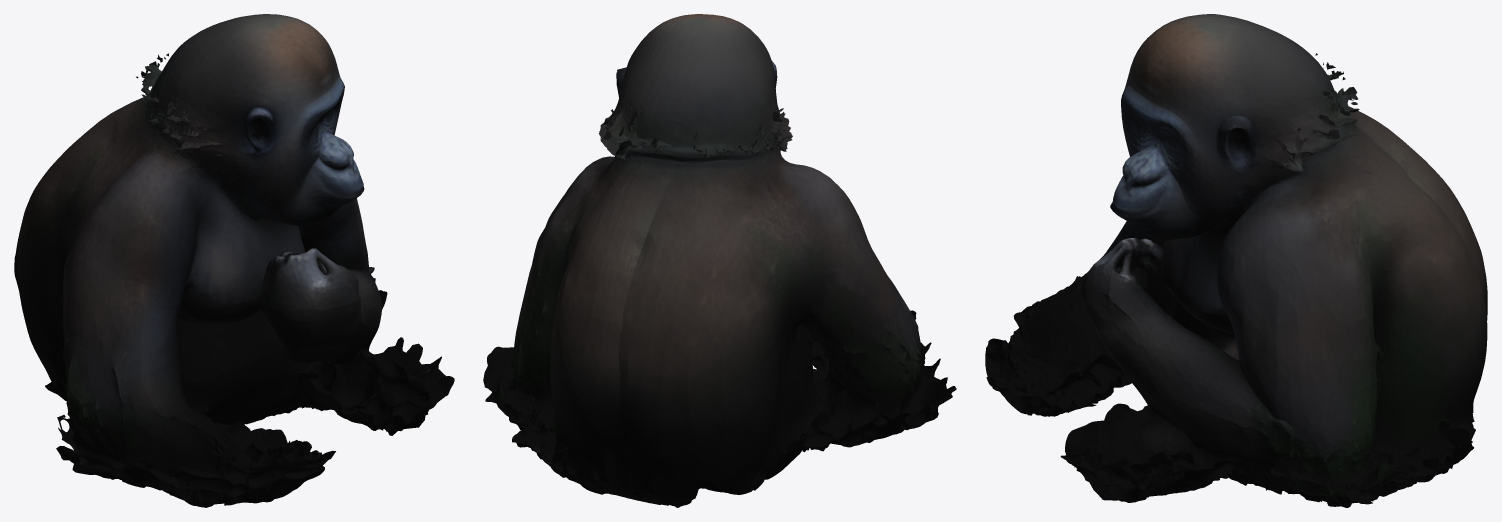
File: sample.glb
3 renders of one model, left to right at view 1: azimuth 30°, elevation 25°; view 2: azimuth 150°, elevation 25°; view 3: azimuth 270°, elevation 25°, orthographic. The views are drawn at different scales.
Parts seen in each view (by area): view 1: world; view 2: world; view 3: world.
Boxes of the visible parts, <box> form: world: <box>14,14,454,507</box>; world: <box>483,14,956,507</box>; world: <box>985,14,1487,507</box>.
Bounding box in the file's own units: 0.988 × 0.9943 × 0.998.
Materials: 1 (1 with a texture image).
